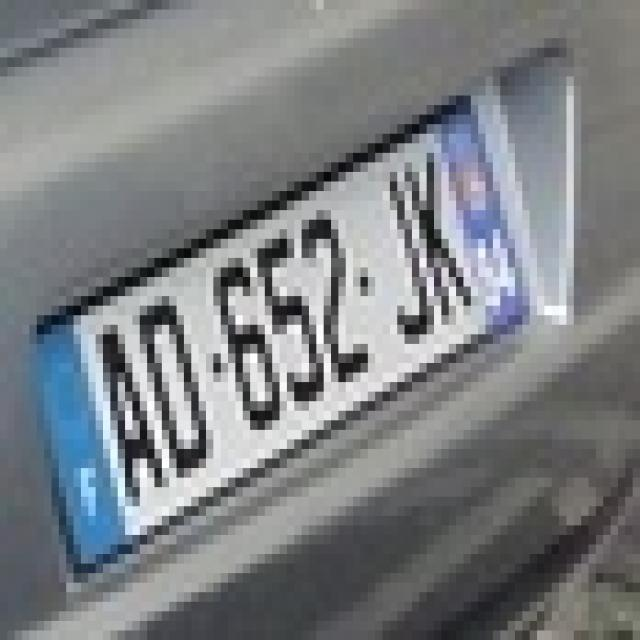licenseplate: (11, 71, 570, 604)
